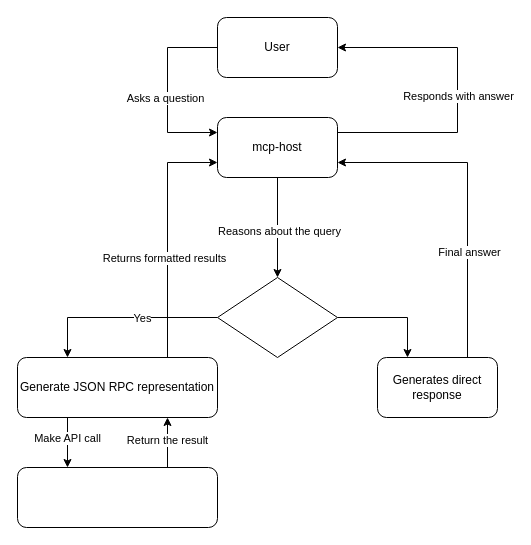
This 531x545 diagram has some shape labels left out. Here are the shapes that lost their labels. From the top down, the box of each, then its label:
(216, 276, 338, 358): Needs external information
(16, 466, 218, 528): Execute search() API call
